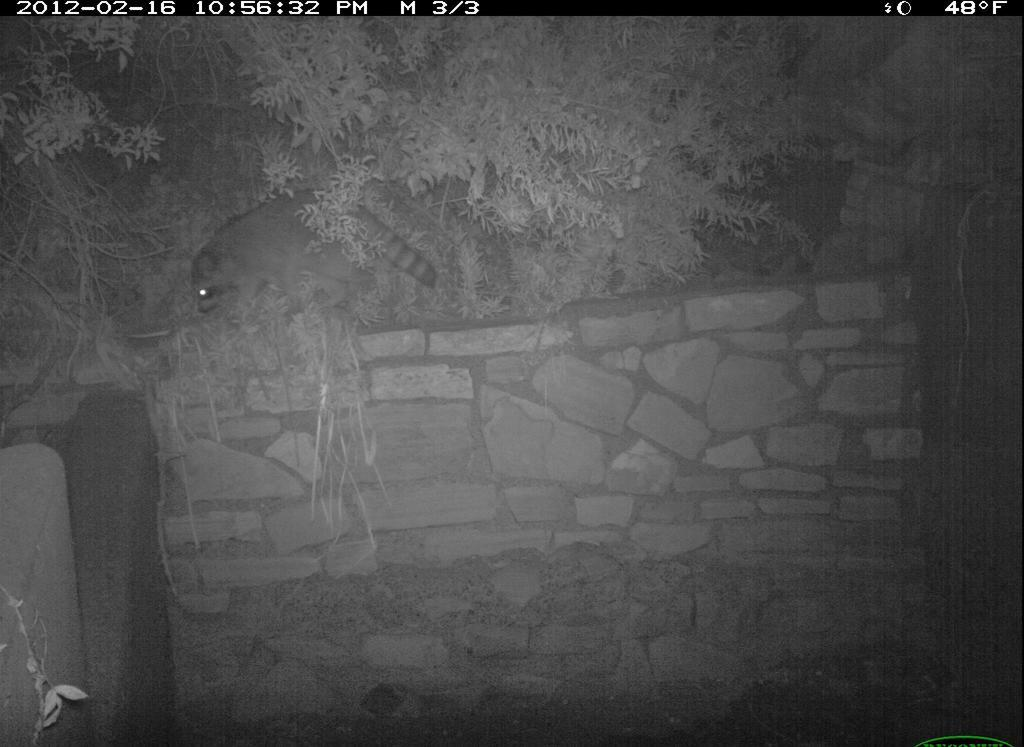raccoon: (184, 189, 440, 326)
